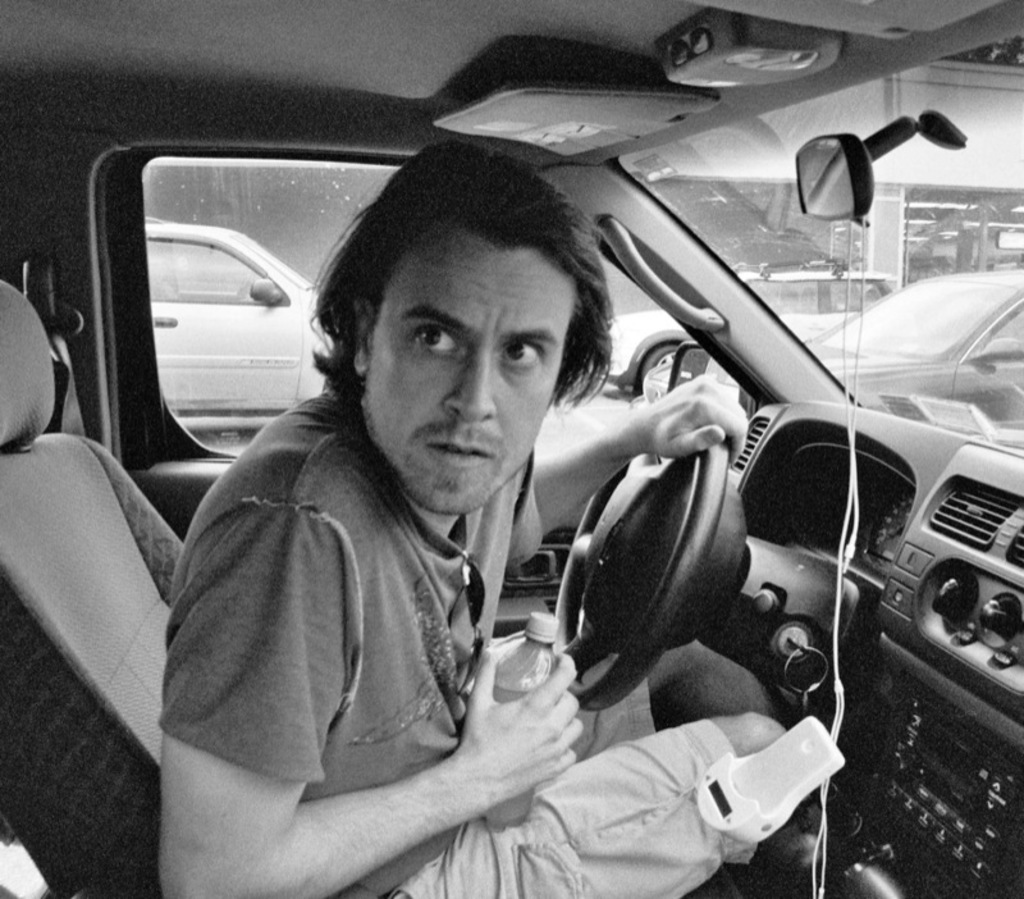Car: (0, 2, 1022, 897), (629, 265, 1022, 436)
